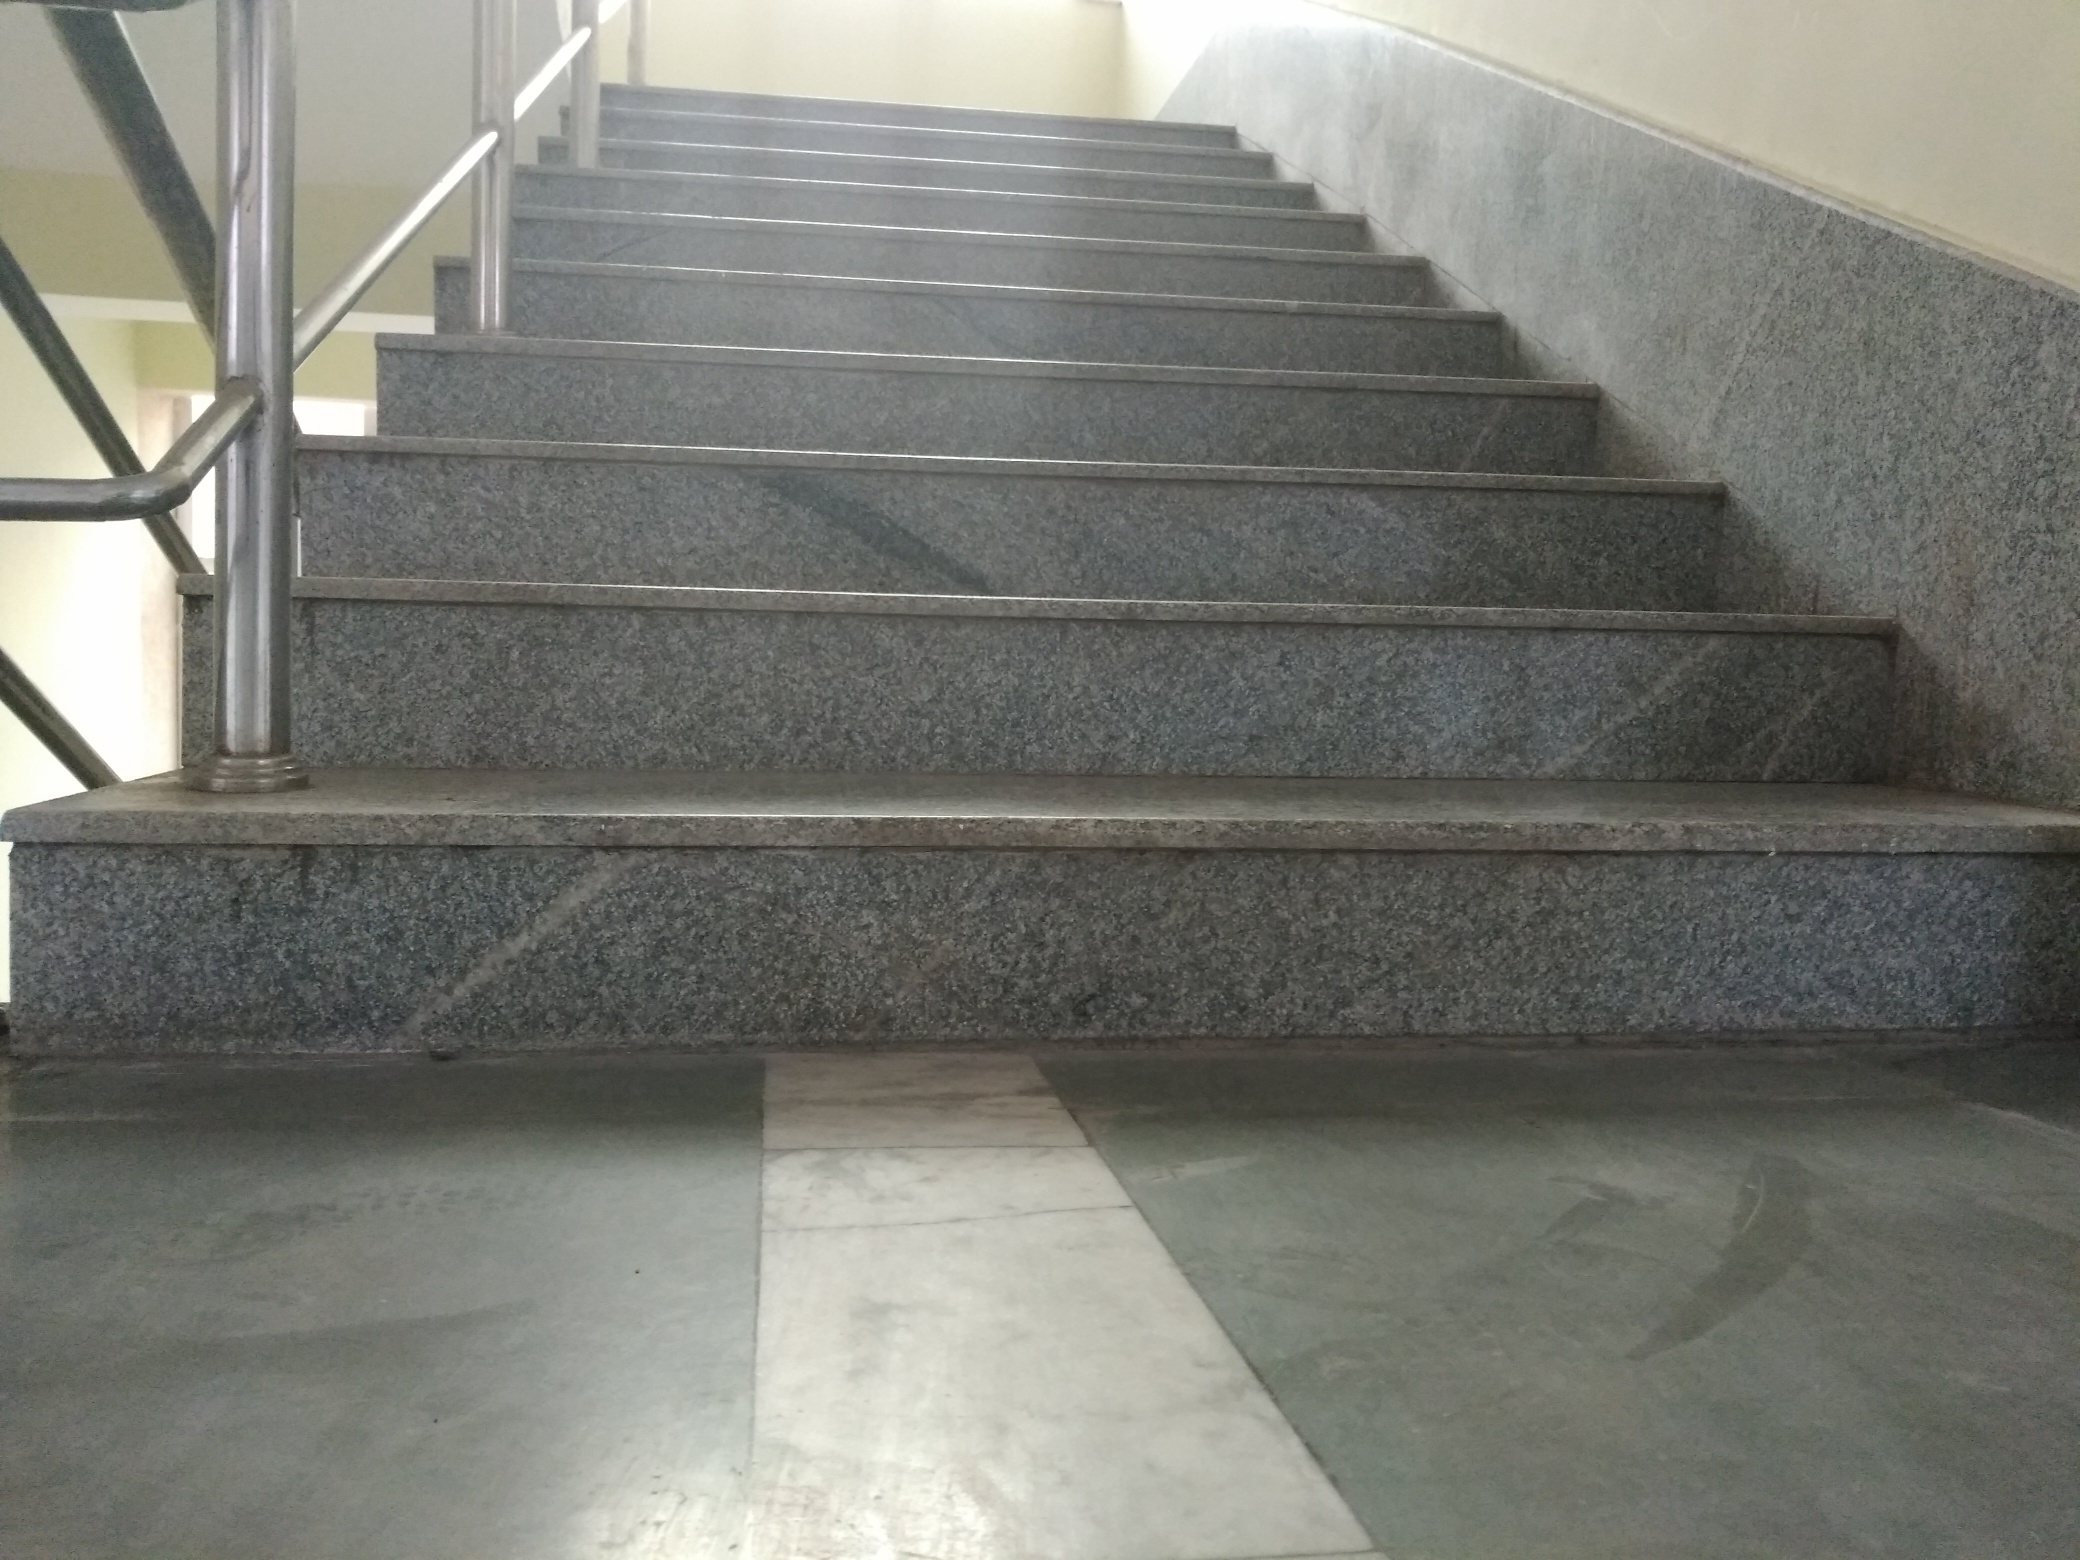stairs_up: (74, 67, 2033, 1065)
